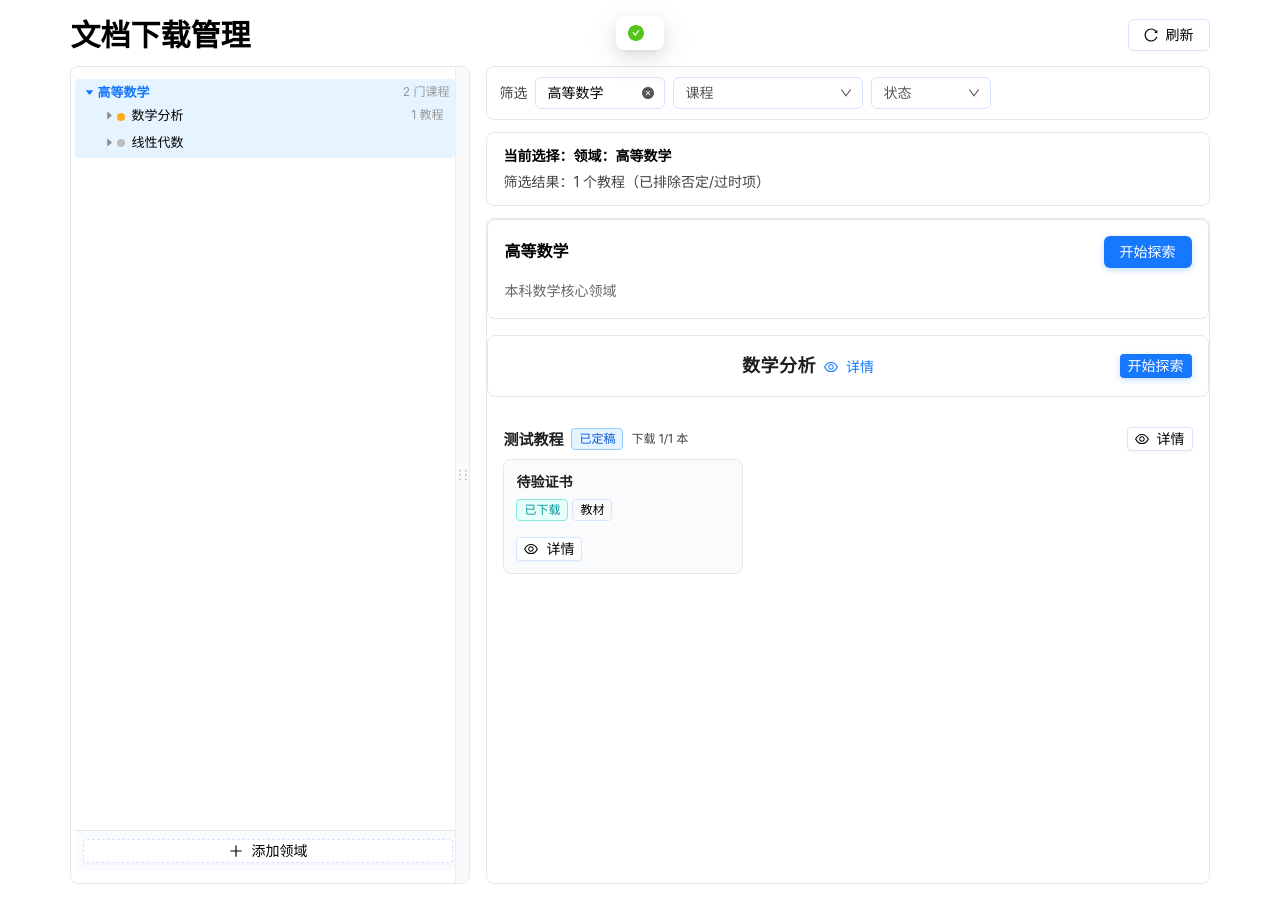
Test: 文档下载管理 Downloads v2（真实领域课程体系，2026-08-24 REQ-059） › BookDetailModal 渠道操作 › 成功渠道显示验证完毕和否定按钮
The width and height of the screenshot is (1280, 900).
What coordinates should you click on to do the following:
click the text "数学分析"
I would click on:
 (150, 115)
Its box is [117, 107, 183, 123].
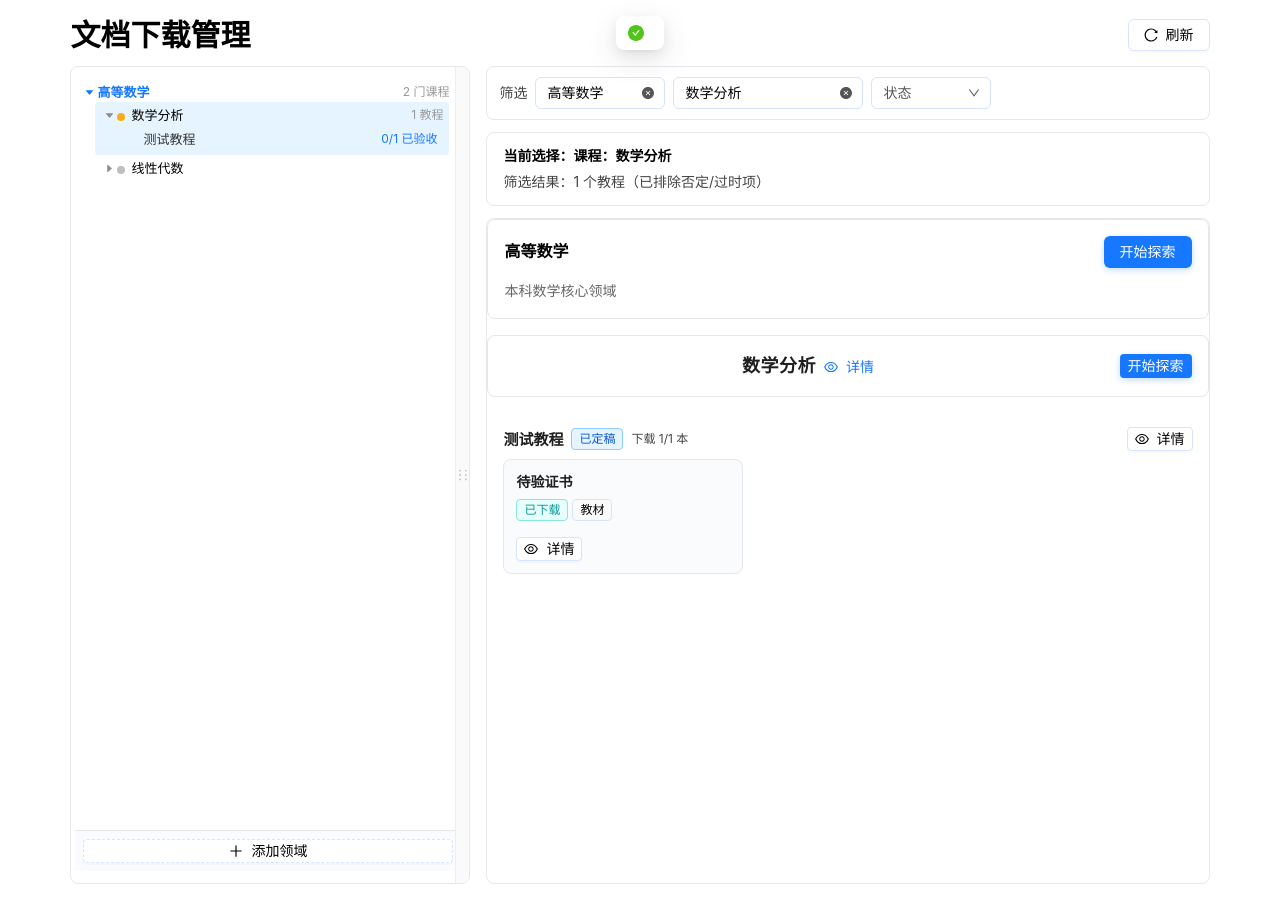
What coordinates should you click on to do the following:
click the button "详情" below "已下载"
I would click on:
 (549, 549)
Its box is [516, 537, 582, 561].
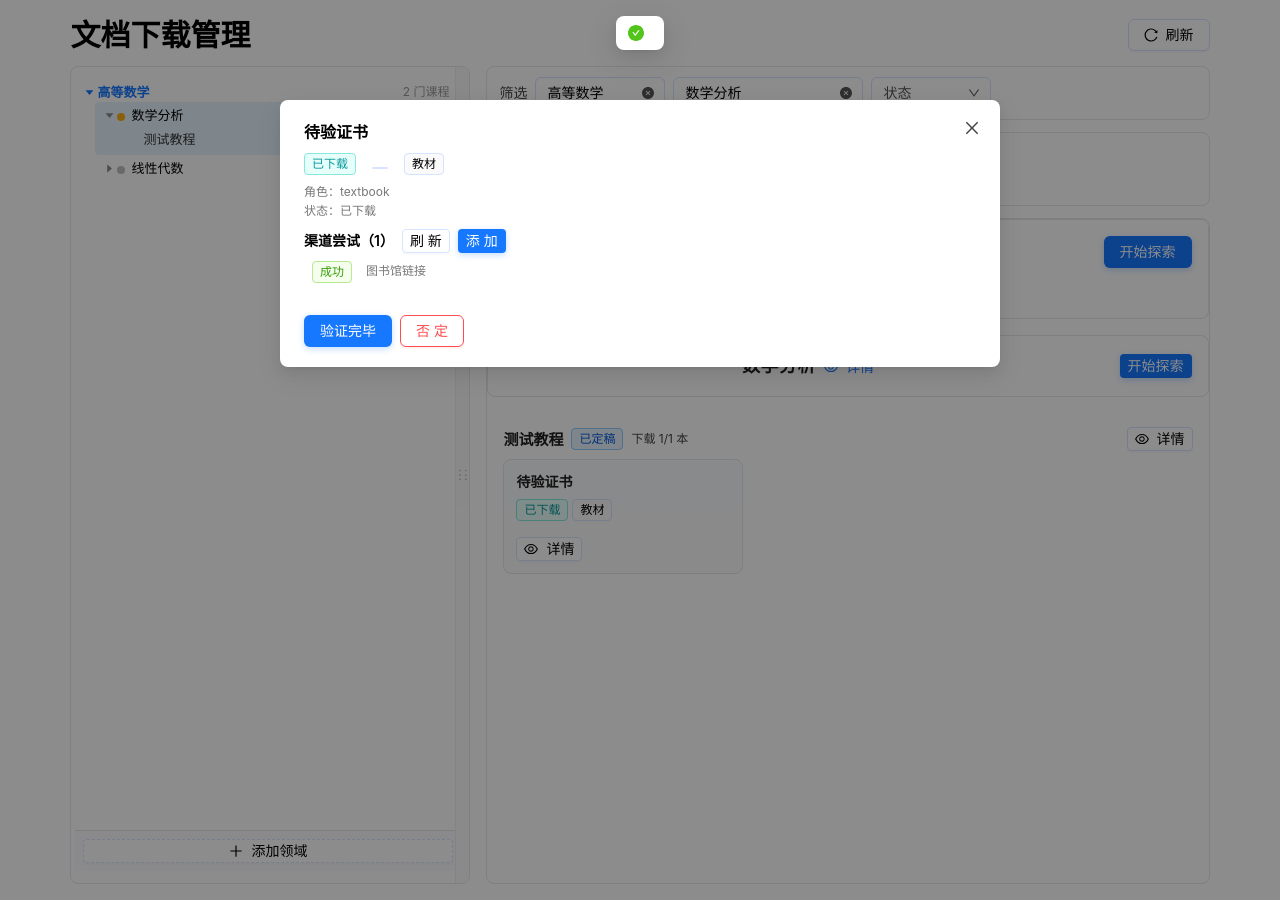
Check: the text "成功" is shown, box [312, 261, 352, 283]
Check: the button "验证完毕" is shown, box [304, 315, 392, 347]
Check: the button "否 定" is shown, box [400, 315, 464, 347]
